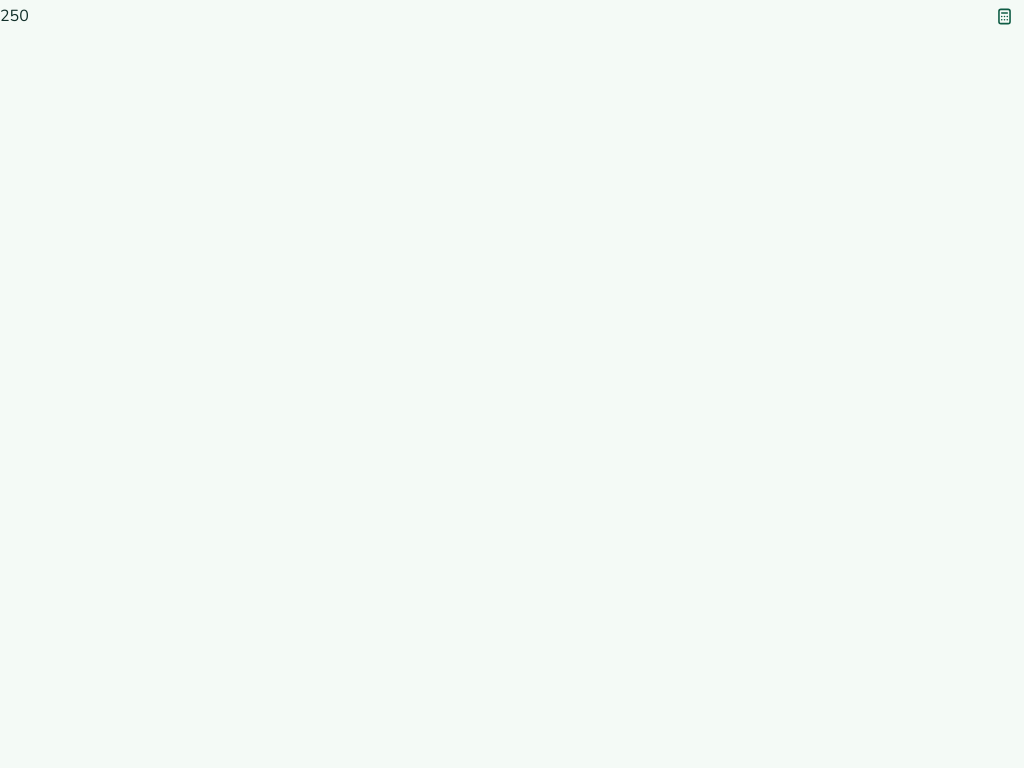
Test: AmountInput › starts the calculator from what's already in the field
Click the button named "Calculator for Amount": [1004, 16] box [988, 0, 1020, 32]
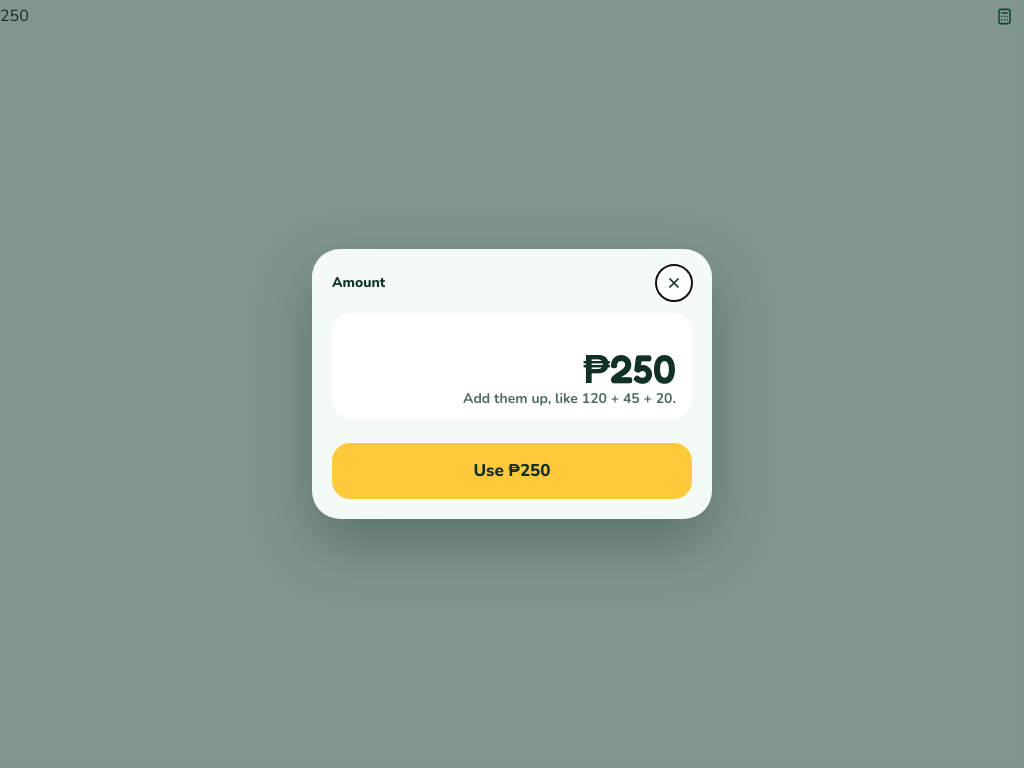
Now the button "Use ₱250" is shown, box [332, 443, 692, 499]
